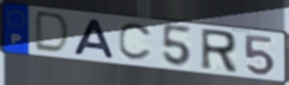5: (161, 23, 194, 70), (243, 33, 278, 77)
A: (71, 17, 117, 60)
C: (117, 22, 156, 63)
D: (33, 9, 73, 56)
R: (198, 27, 239, 75)
